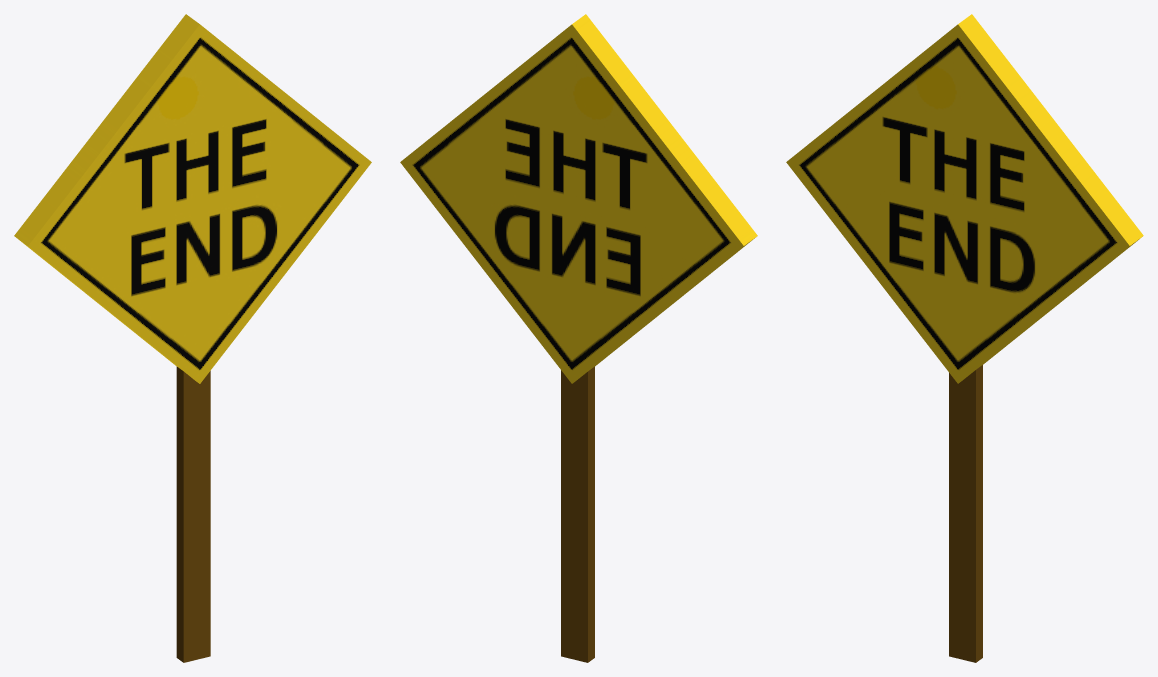
Rendered from end.fbx.
3 views of the same model, side by side, from view 1: azimuth 30°, elevation 25°; view 2: azimuth 150°, elevation 25°; view 3: azimuth 330°, elevation 25° (orthographic).
Parts seen in each view (by area): view 1: pCube7; view 2: pCube7; view 3: pCube7.
Boxes of the visible parts, left/top/right/bottom form: pCube7: left=14, top=14, right=371, bottom=662; pCube7: left=400, top=14, right=757, bottom=662; pCube7: left=786, top=14, right=1143, bottom=662.
Size of the model in its own units: 212 by 376 by 15.
